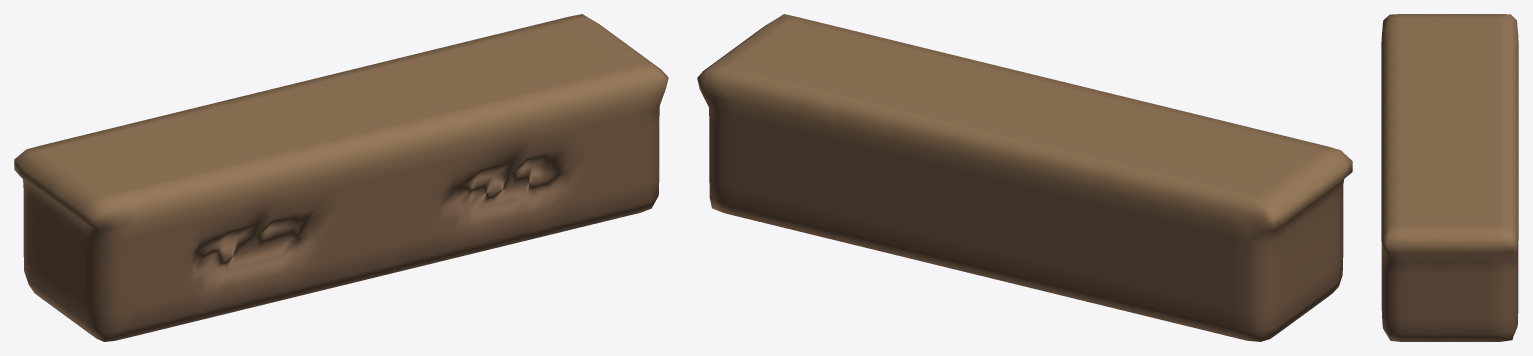
The model's file is tv-stand.glb.
3 views of the same model, side by side, from view 1: azimuth 30°, elevation 25°; view 2: azimuth 150°, elevation 25°; view 3: azimuth 270°, elevation 25° (orthographic). The views are drawn at different scales.
Parts seen in each view (by area): view 1: tv-stand; view 2: tv-stand; view 3: tv-stand.
Part boxes in pixels (x1,y1,x2,y2): tv-stand: (14, 14, 668, 341); tv-stand: (697, 14, 1352, 341); tv-stand: (1381, 14, 1518, 341).
Size of the model in its own units: 1.81 by 0.425 by 0.4615.
